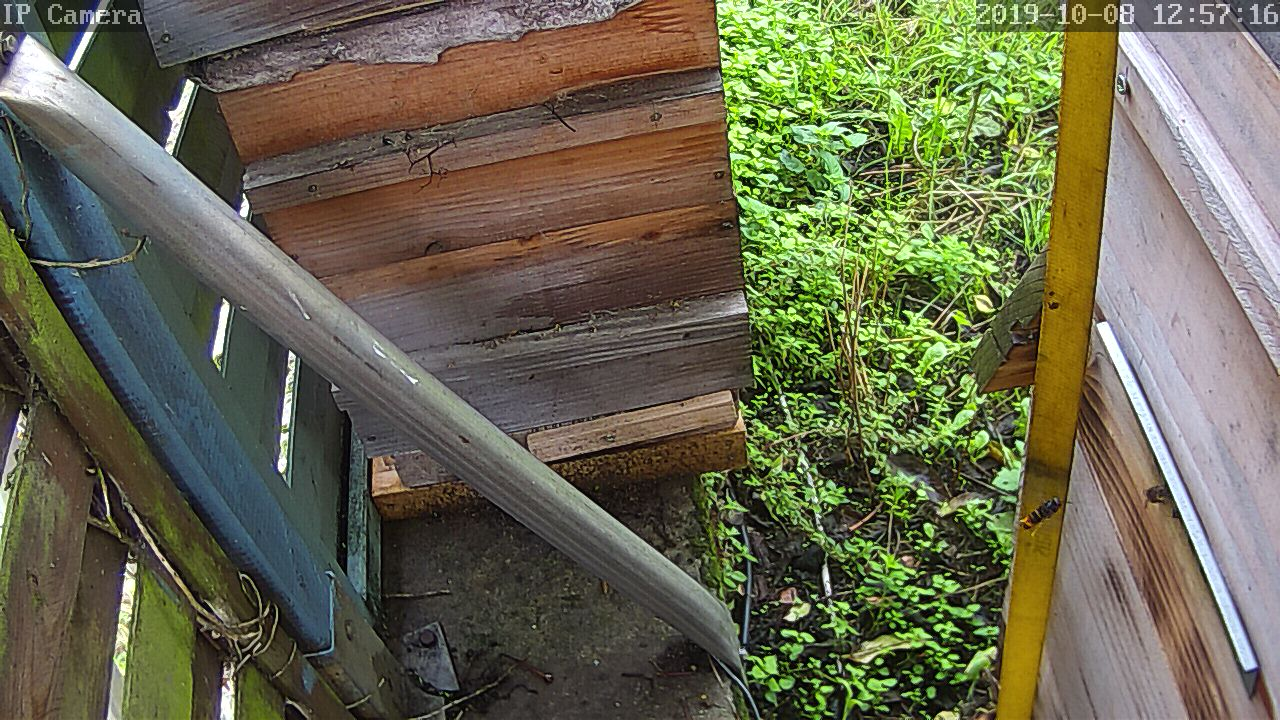bee: (1137, 477, 1174, 519)
hornet: (1021, 486, 1066, 535)
